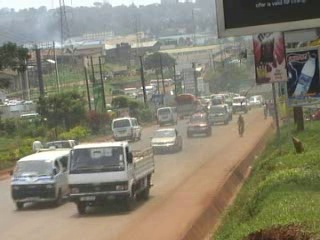Car: (149, 126, 184, 156), (185, 110, 212, 139), (206, 103, 231, 126), (229, 94, 248, 114), (247, 95, 261, 108)
